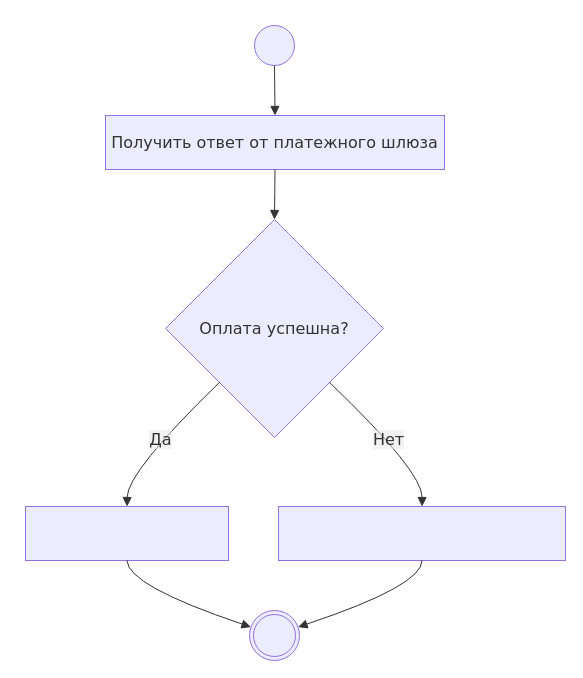
Some shapes in this 583 by 678 pixel diagram are drawn without their labels. Each missing label, with the centre of its shape:
"Подтвердить бронь" goes at (x=126, y=533).
"Уведомить клиента об ошибке" goes at (x=422, y=533).
